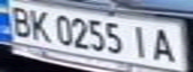0: (48, 11, 75, 47)
2: (66, 15, 90, 51)
5: (84, 17, 109, 53), (103, 20, 127, 56)
A: (145, 25, 184, 64)
B: (3, 2, 36, 38)
I: (127, 22, 154, 60)
K: (24, 7, 54, 43)
